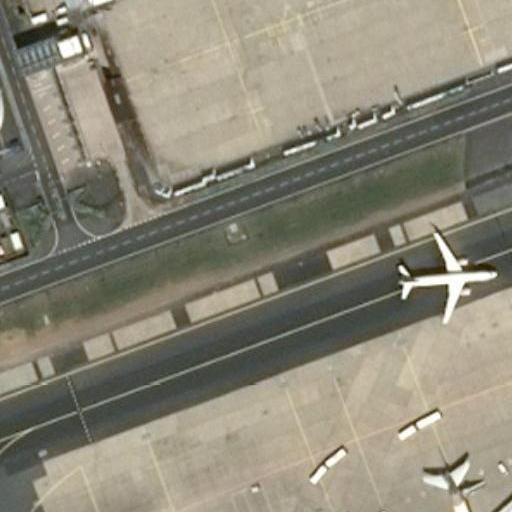Aircraft: (388, 224, 497, 325), (385, 229, 497, 326), (401, 460, 512, 512), (403, 460, 512, 512)
